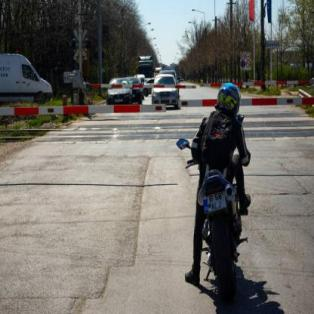Motocicleta: (171, 132, 255, 296)
